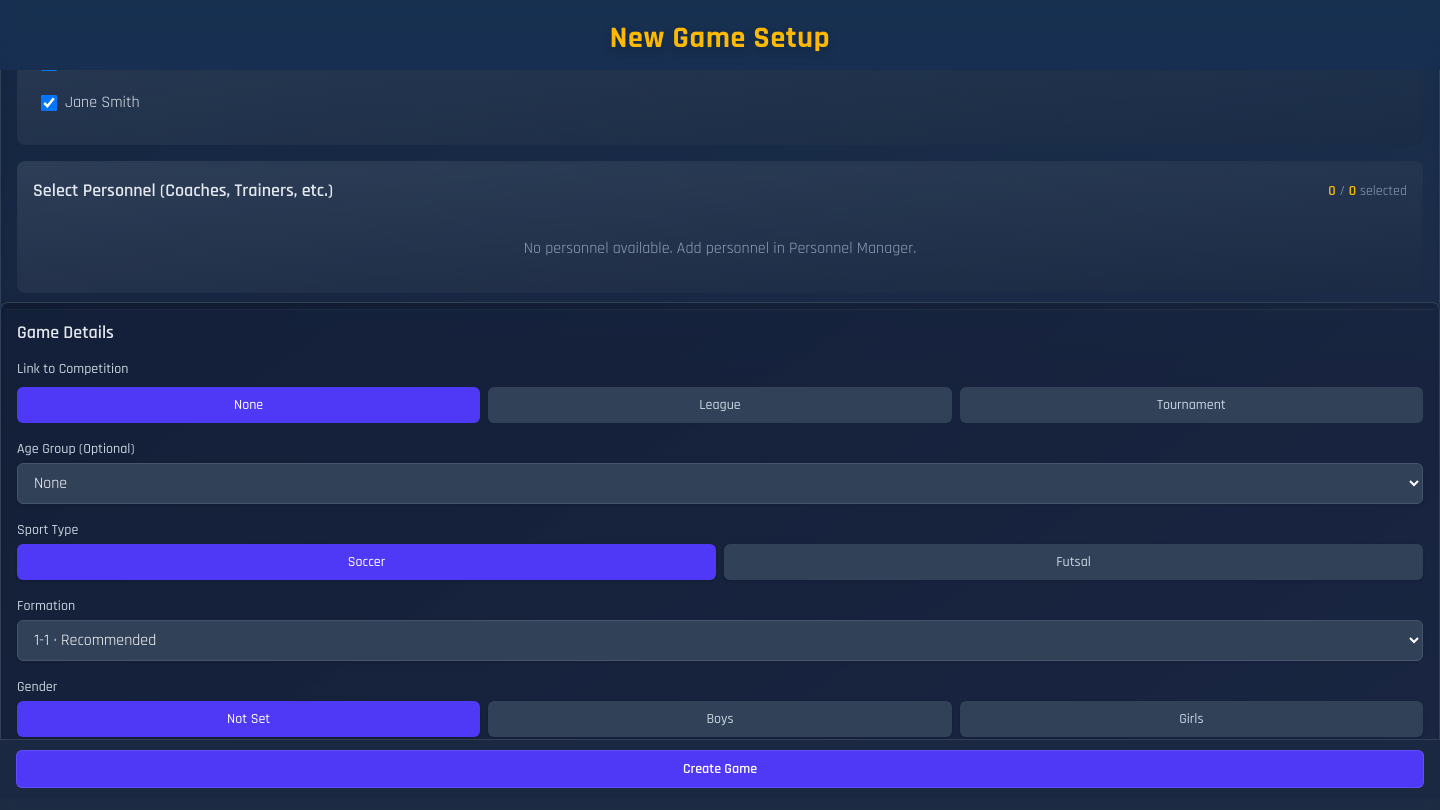
Test: NewGameSetupModal › Tournament Series Selection › falls back to legacy level when tournament has empty series array
The image size is (1440, 810).
(page scrolled)
// Switch to tournament tab
Click the button "Tournament". click: click(1191, 404)
box: top-left (960, 386), bottom-right (1423, 422)
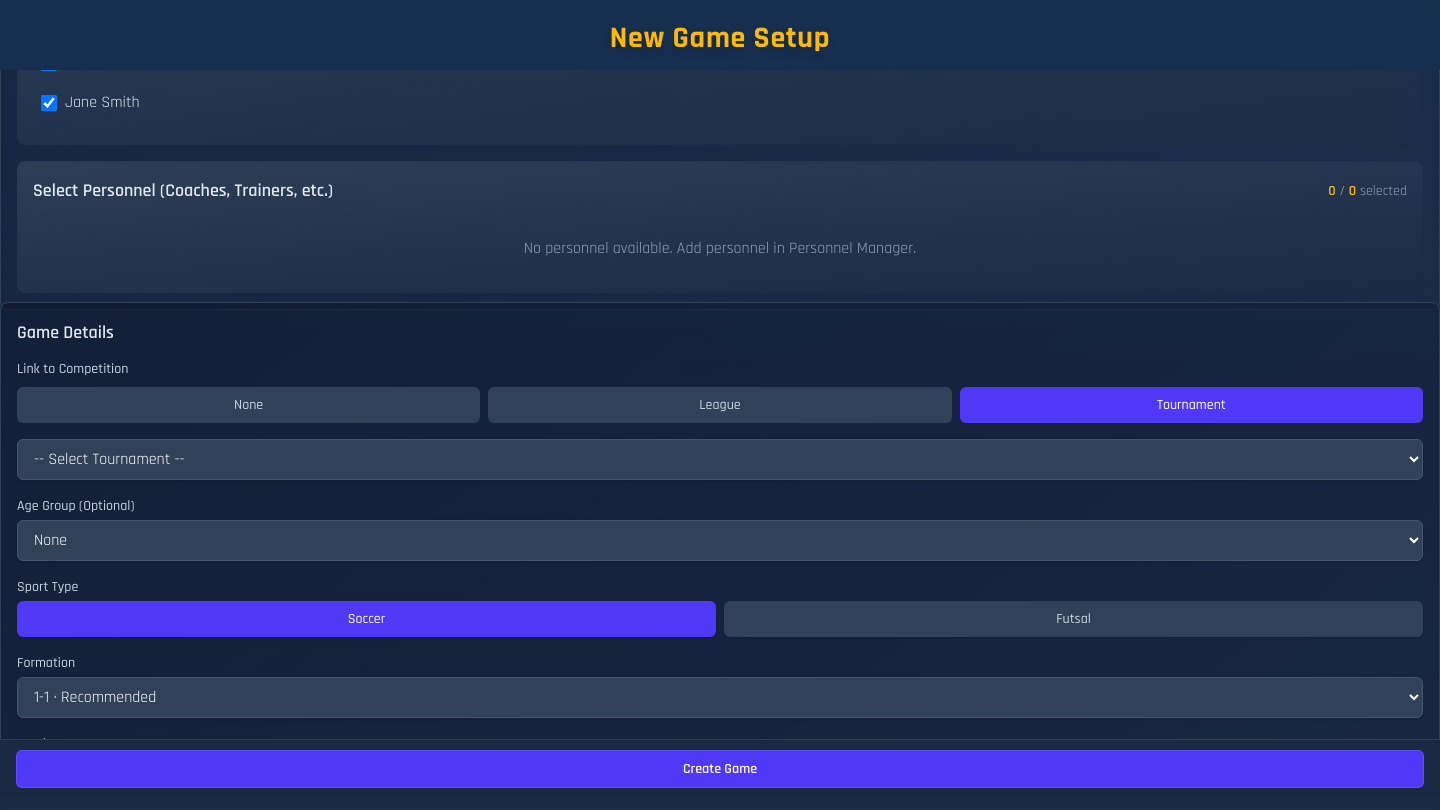
Expected: the dropdown with id "tournamentSelect" is shown
Select "Empty Series Cup" in the dropdown with id "tournamentSelect". click: (720, 459)
box: top-left (17, 438), bottom-right (1423, 480)
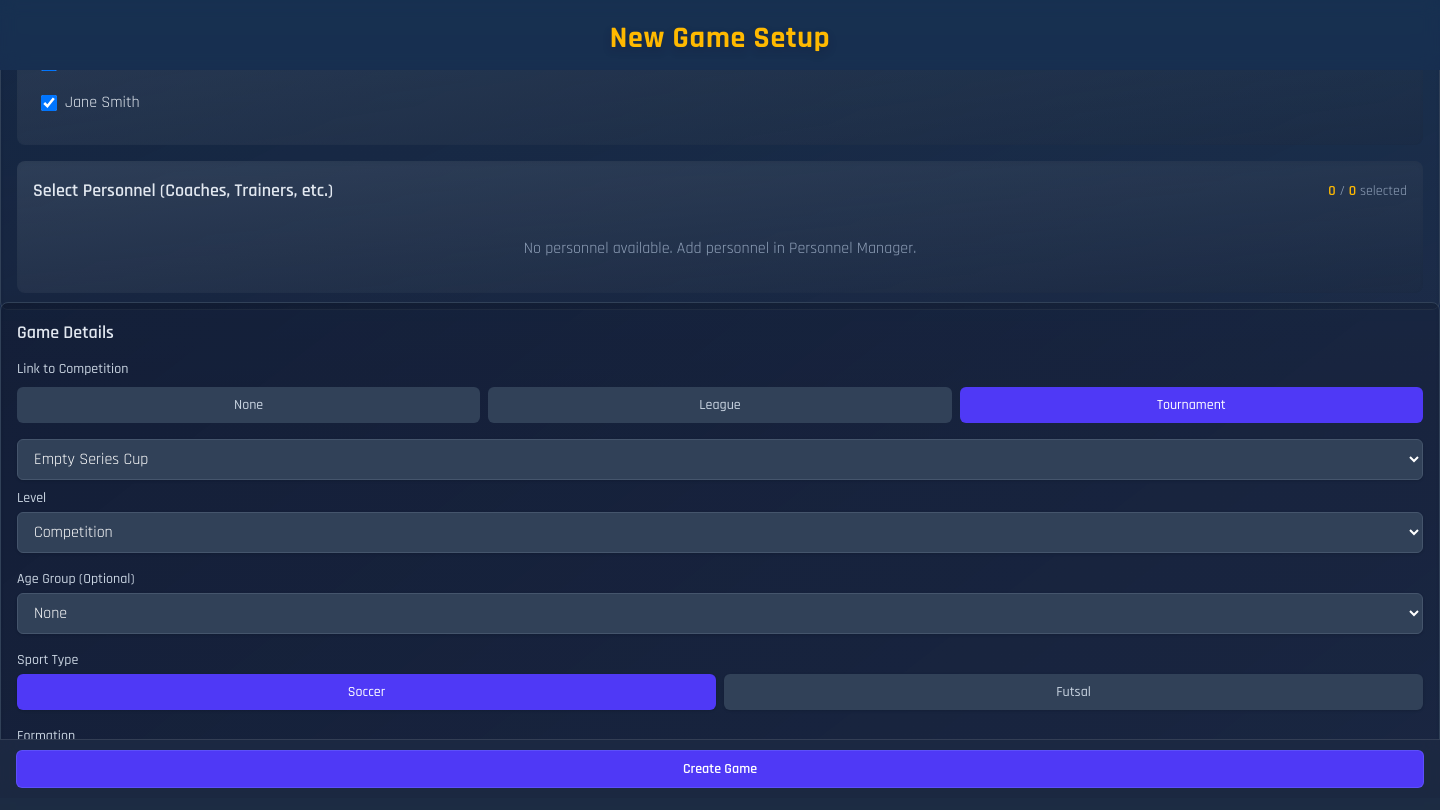
Expected: the dropdown with id "tournamentLevelInput" is shown, top-left (17, 512), bottom-right (1423, 552)
